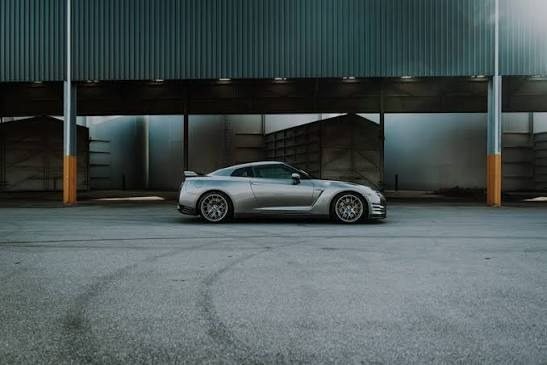car: (176, 161, 384, 227)
